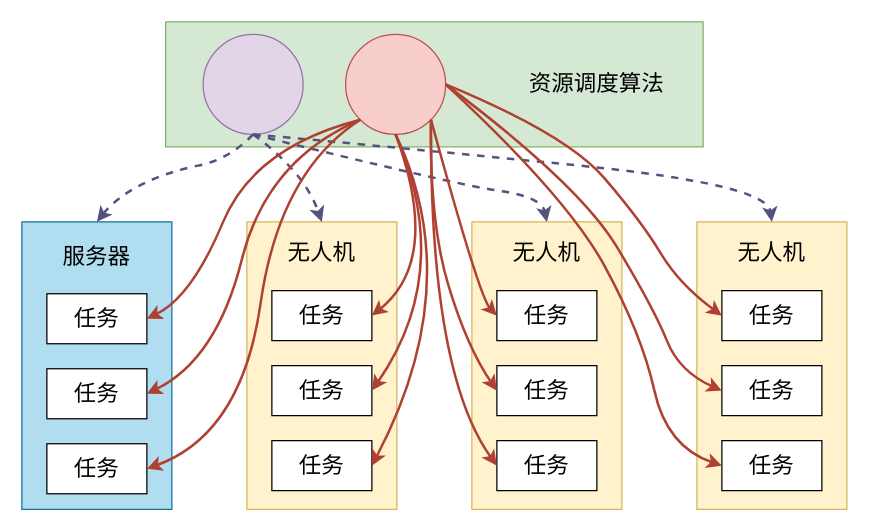
Image size: 869x531. Some labels were removed from this diagram. Here are the shapes that lost their labels. From the top down, the centre of each, then its label:
the point at 252,83: 资源数据
the point at 395,83: 任务数据
